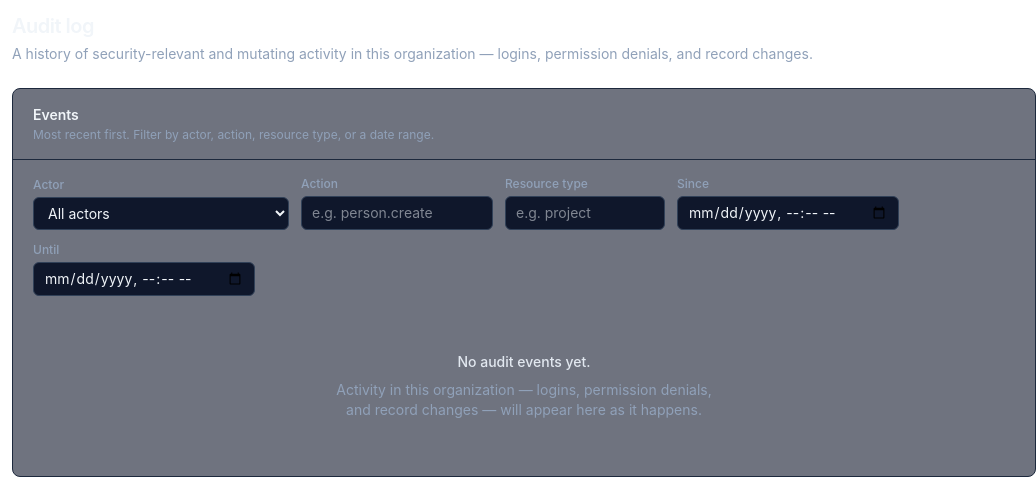
Test case: AuditLogPage › shows the filtered-empty state, not the "no history" state, when an Action filter matches nothing
The width and height of the screenshot is (1036, 494).
Type "nonexistent.action" into the search field labelled "Action" at (397, 213), box [301, 196, 493, 230]
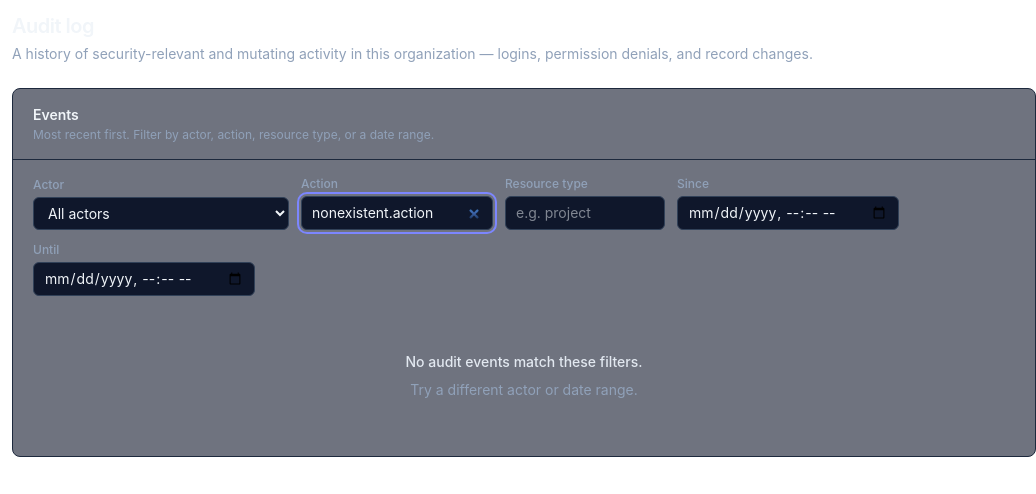
Expected: the text "No audit events match these filters." is shown, [406, 352, 642, 372]
Expected: the text "No audit events yet." is gone
